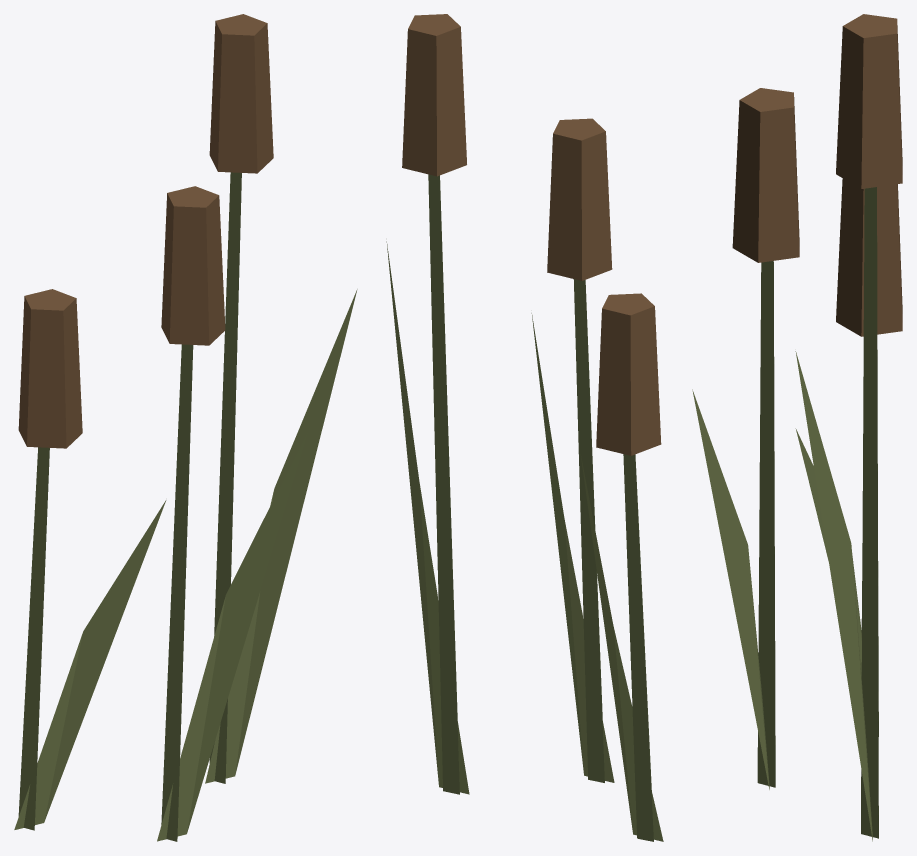
Rendered from reeds.glb.
3 views of the same model, side by side, from view 1: azimuth 30°, elevation 25°; view 2: azimuth 150°, elevation 25°; view 3: azimuth 270°, elevation 25° (orthographic). The views are drawn at different scales.
Visible parts, largest first — view 1: surface; view 2: surface; view 3: surface.
Boxes of the visible parts, <box> form: surface: <box>14,14,357,841</box>; surface: <box>386,14,663,841</box>; surface: <box>692,14,902,841</box>.
Bounding box in the file's own units: 0.452 × 1.05 × 0.2448.
